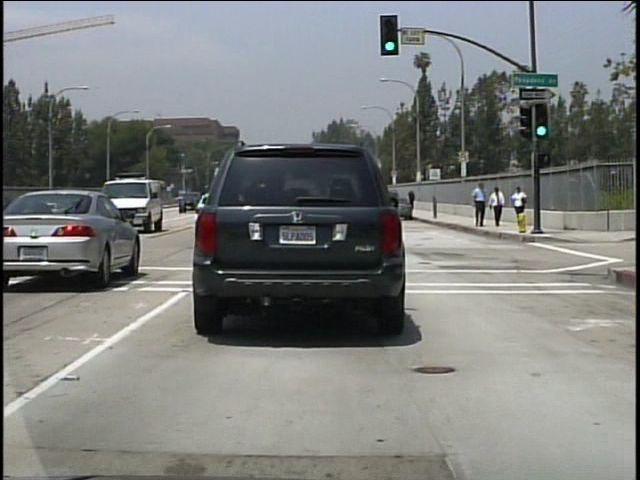person: (470, 180, 488, 230), (490, 184, 507, 228), (511, 184, 528, 214), (408, 188, 419, 204)
